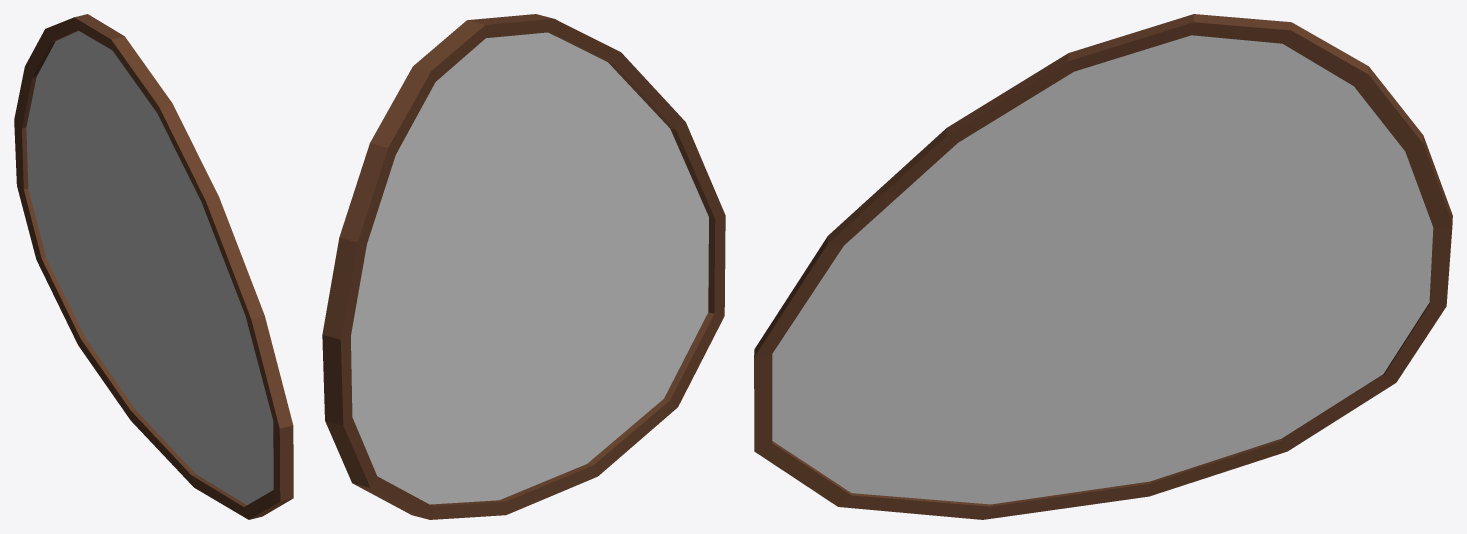
File: Racket_Pad.fbx
3 renders of one model, left to right at view 1: azimuth 30°, elevation 25°; view 2: azimuth 150°, elevation 25°; view 3: azimuth 270°, elevation 25°, orthographic. The views are drawn at different scales.
Parts seen in each view (by area): view 1: Racket; view 2: Racket; view 3: Racket.
Part boxes in pixels (x1,y1,x2,y2): Racket: (14, 14, 293, 519); Racket: (322, 14, 725, 519); Racket: (754, 14, 1452, 519).
Bounding box in the file's own units: 10.06 × 180 × 230.
